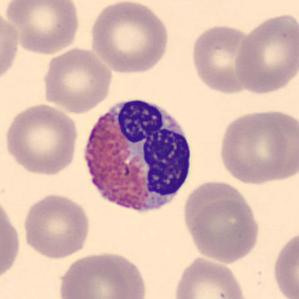Eosinophil: (74, 90, 198, 223)
RBC: (216, 106, 297, 186), (87, 0, 172, 75), (2, 101, 80, 177), (232, 11, 298, 96), (185, 196, 263, 264), (40, 45, 115, 114), (188, 22, 256, 96), (20, 191, 91, 259), (55, 250, 147, 299), (3, 0, 82, 56), (183, 179, 250, 245), (172, 255, 248, 299), (0, 191, 22, 286), (270, 227, 299, 299), (0, 7, 21, 86)
